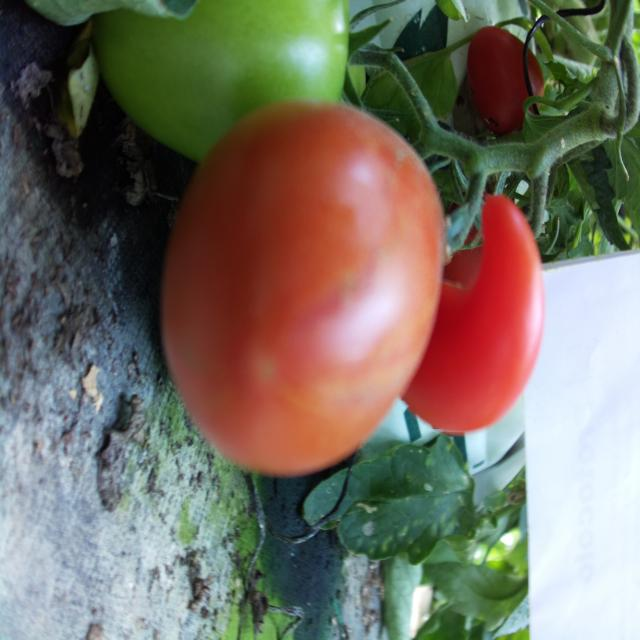kirmizi: (166, 99, 445, 499)
